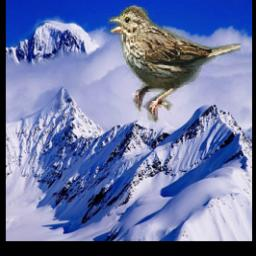Sparrow: (108, 4, 242, 124)
